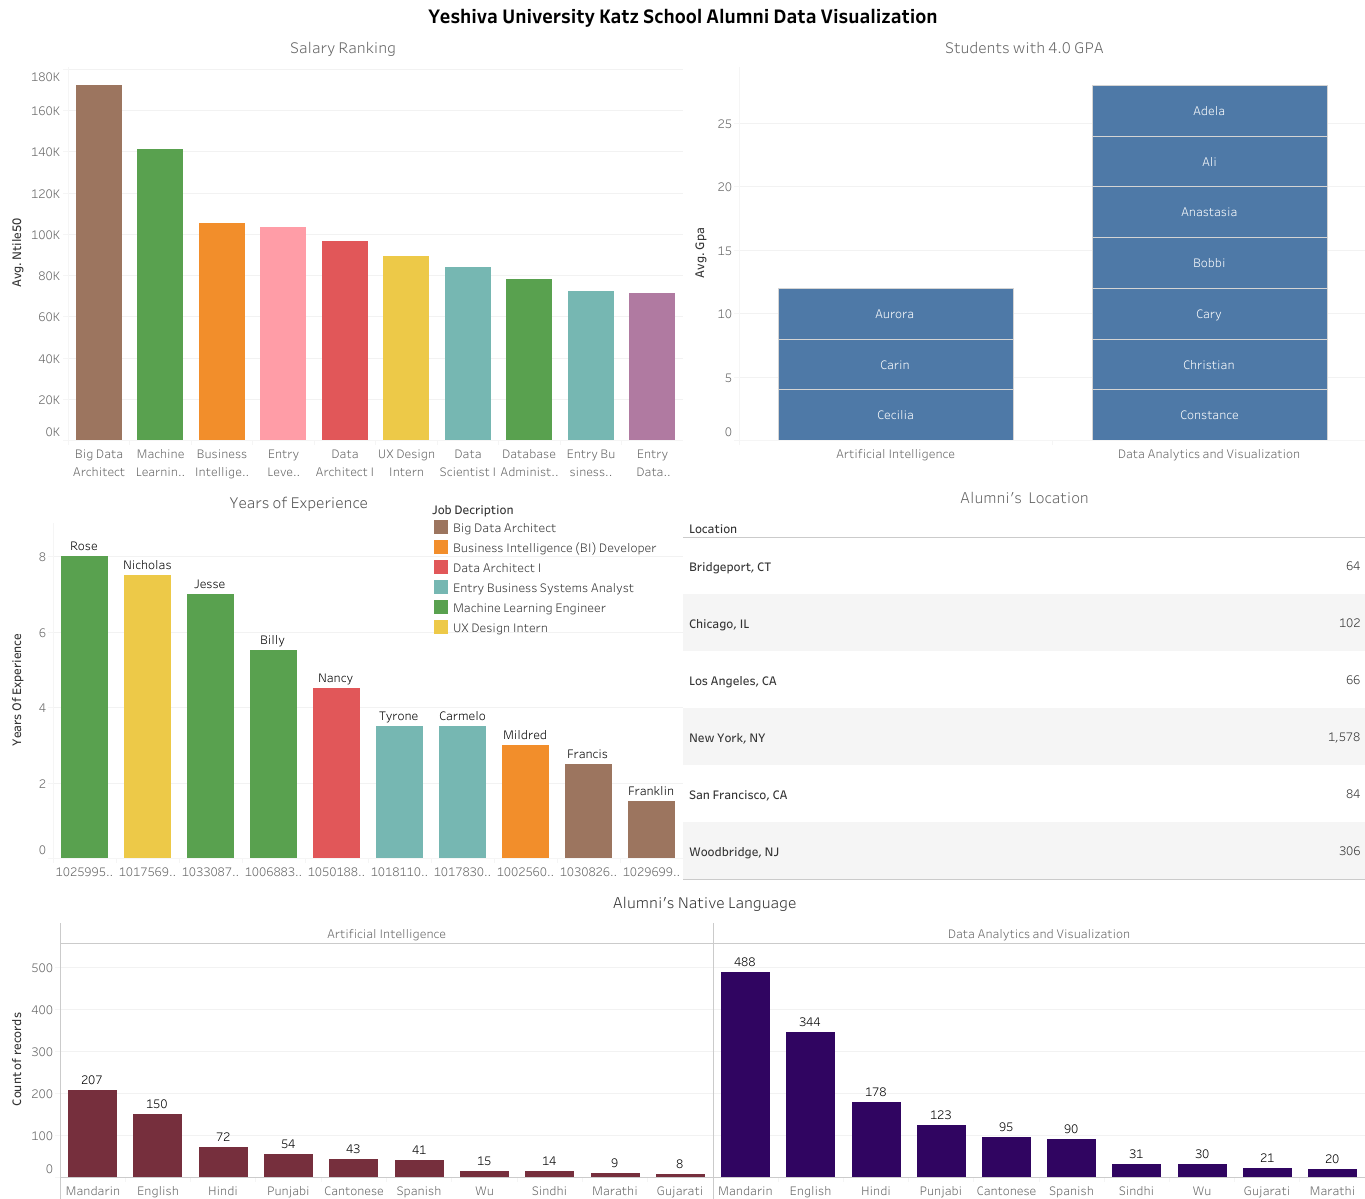

The dashboard page shown, as its layout file describes it:
{"tool":"tableau","page":{"name":"Yeshiva University Katz School Alumni Data Visualization","canvas":[1366,1200],"ordinal":0},"visuals":[{"type":"text","box":[0,0,1366,30]},{"type":"worksheet","title":"Sheet 1","mark":"Automatic","rows":["ntile50"],"cols":["job decription"],"box":[0,30,683,450]},{"type":"worksheet","title":"Sheet 2","mark":"Automatic","rows":["gpa"],"cols":["katz school major"],"box":[683,30,683,450]},{"type":"worksheet","title":"Sheet 3","mark":"Automatic","rows":["years of experience"],"cols":["student id"],"box":[0,480,683,400]},{"type":"worksheet","title":"Sheet 5","mark":"Automatic","rows":["location"],"box":[683,480,683,400]},{"type":"legend","title":"Sheet 3","param":"[federated.1vuugf61p7krn3177ytwq0kg9azr].[none:job decription:nk]","box":[431,498,241,142]},{"type":"worksheet","title":"Sheet 4","mark":"Automatic","rows":["last name"],"cols":["katz school major","languages"],"box":[0,880,1366,320]}]}

Visuals, with their boxes in screenshot pixels (x1, y1, x2, y2), scaled from the page's 1366x1200 canvas onto the 1365x1199 screenshot:
text: (left=0, top=0, right=1364, bottom=30)
"Sheet 1" worksheet: (left=0, top=30, right=682, bottom=480)
"Sheet 2" worksheet: (left=682, top=30, right=1364, bottom=480)
"Sheet 3" worksheet: (left=0, top=480, right=682, bottom=879)
"Sheet 5" worksheet: (left=682, top=480, right=1364, bottom=879)
"Sheet 3" legend: (left=431, top=498, right=672, bottom=639)
"Sheet 4" worksheet: (left=0, top=879, right=1364, bottom=1198)
